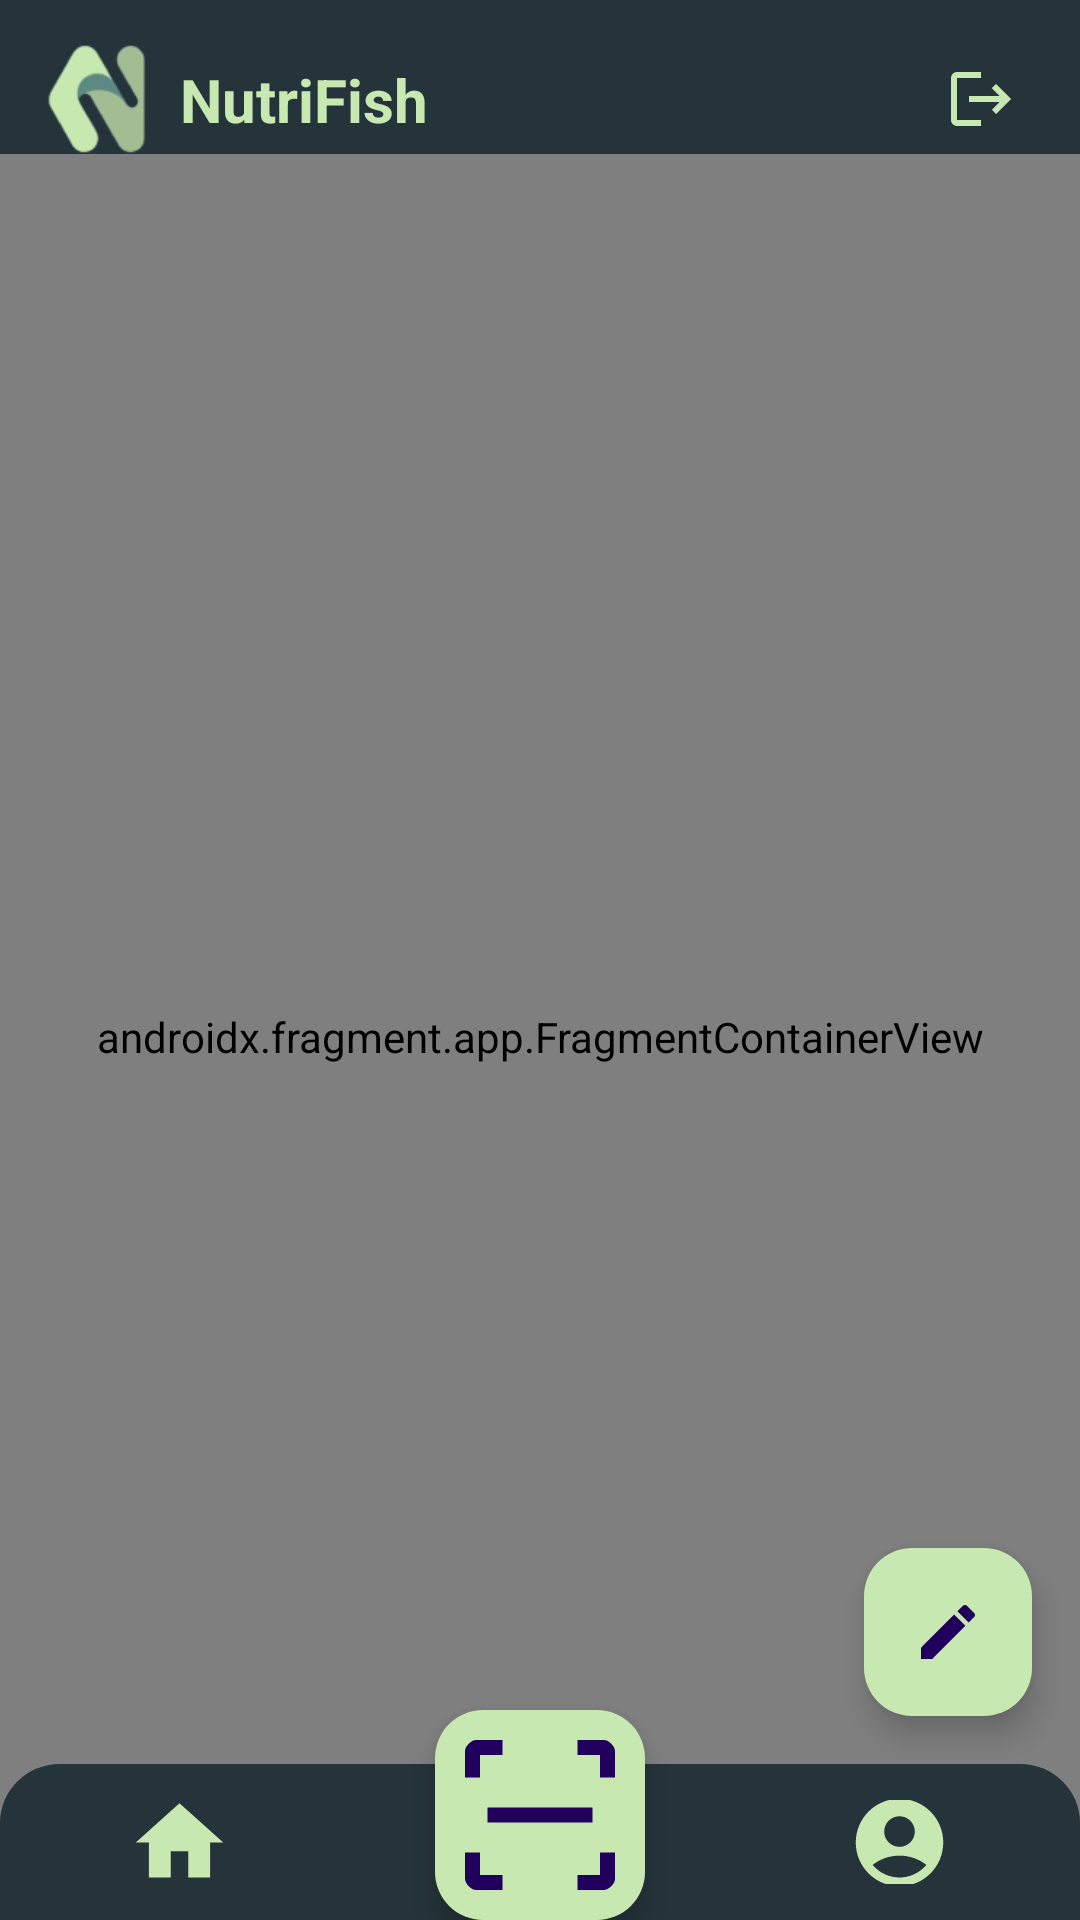

Screen size 1080w x 1920h. Icon name, then its center in pixels as point (x, y):
Analyze button: point (540, 1815)
Post Recipe: point (948, 1632)
